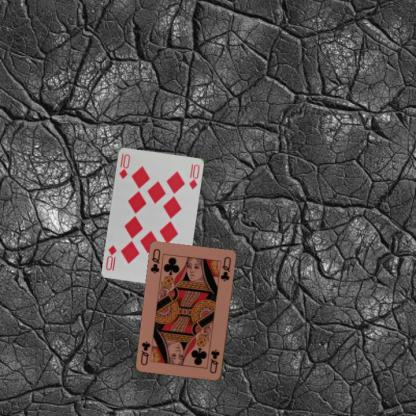10d: (116, 150, 131, 180)
Qc: (148, 246, 162, 275), (207, 347, 221, 375)
